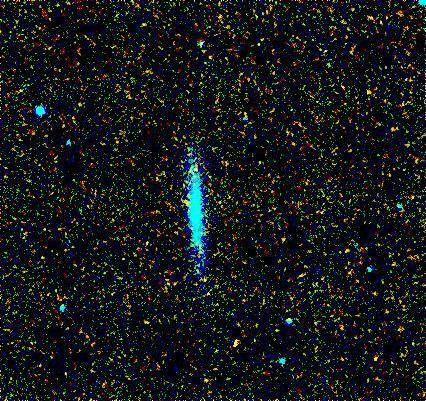star: (219, 319, 249, 349)
